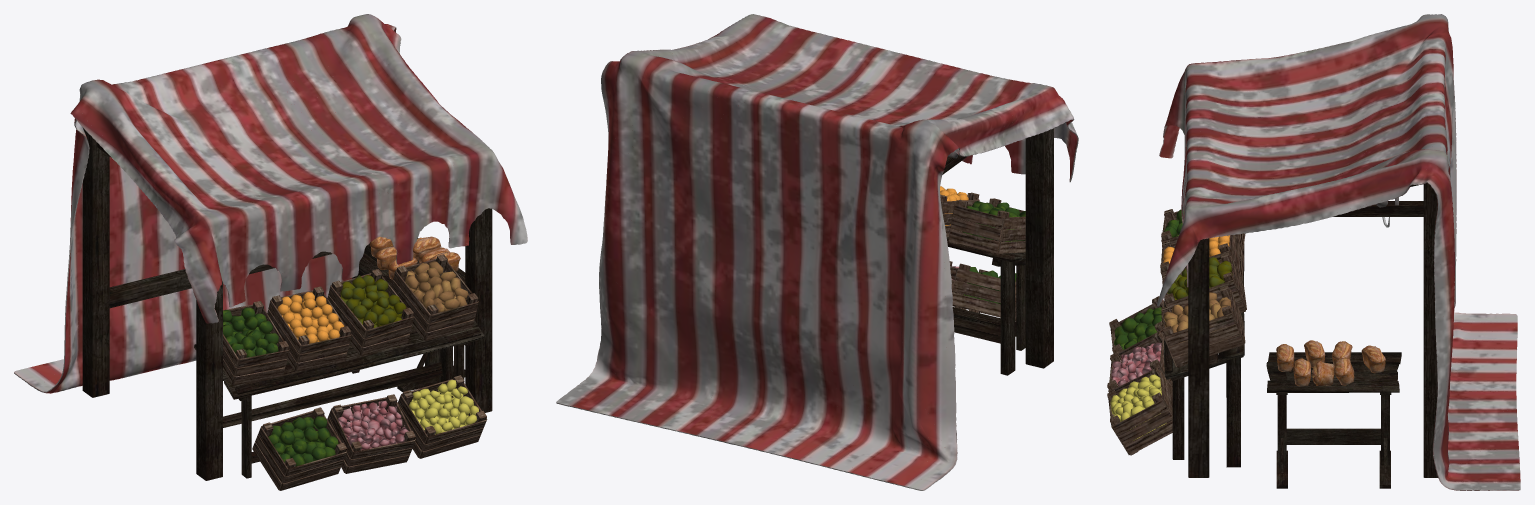
The picture shows the model from 3 angles, left to right: view 1: azimuth 30°, elevation 25°; view 2: azimuth 150°, elevation 25°; view 3: azimuth 270°, elevation 25°; orthographic projection. The views are drawn at different scales.
Visible parts, largest first — view 1: SM_Asset_Props; view 2: SM_Asset_Props; view 3: SM_Asset_Props.
Boxes of the visible parts, left/top/right/bottom form: SM_Asset_Props: left=14, top=14, right=527, bottom=490; SM_Asset_Props: left=556, top=14, right=1078, bottom=490; SM_Asset_Props: left=1107, top=14, right=1520, bottom=490.
Bounding box in the file's own units: 3.09 × 2.62 × 3.06.
Materials: 7 (6 with a texture image).
